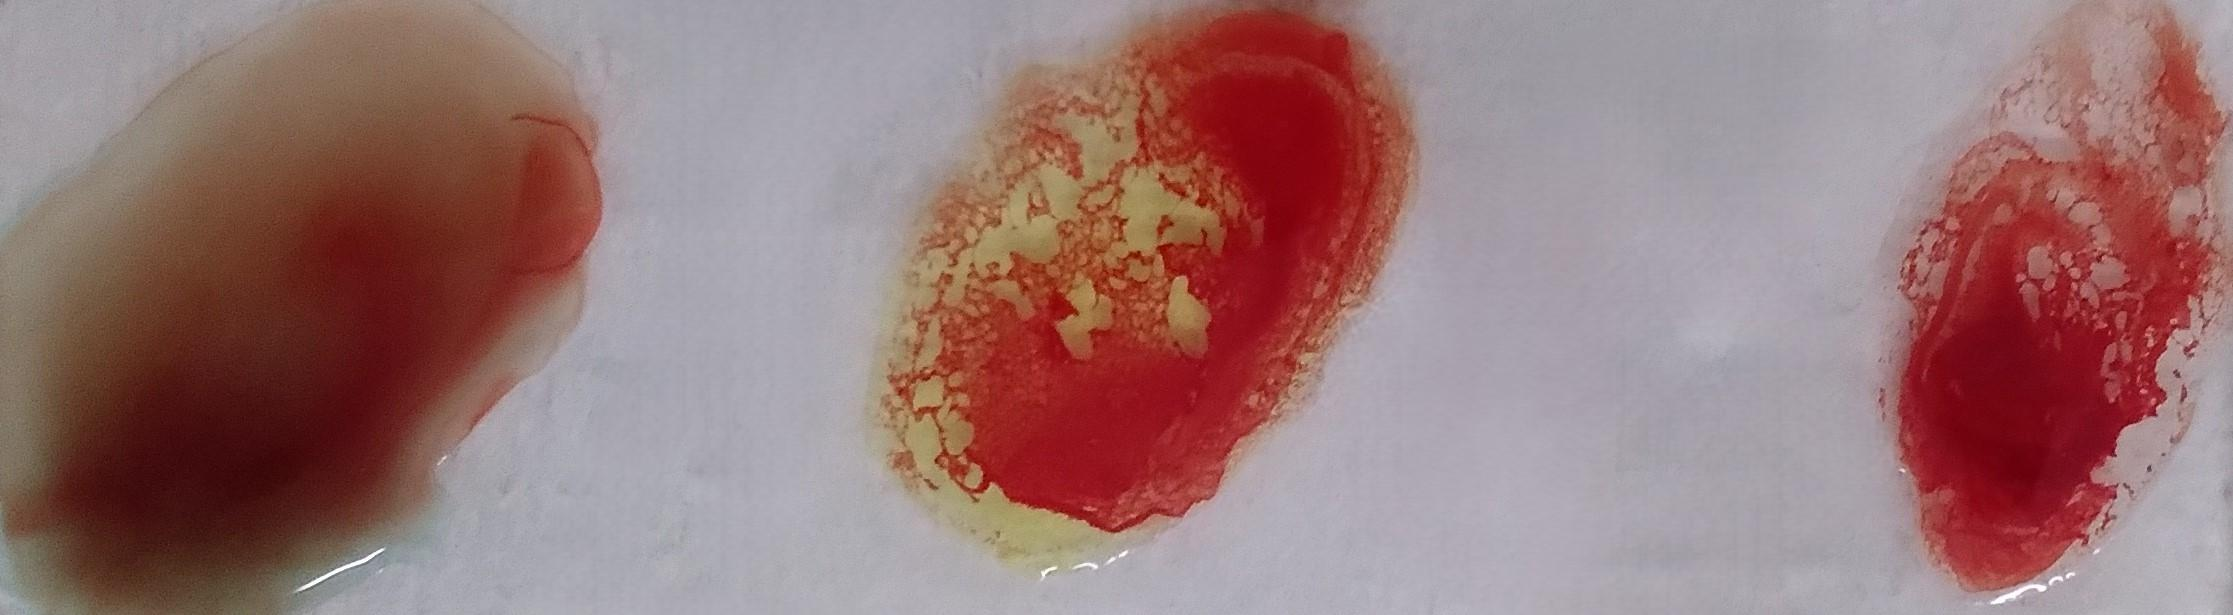B: (944, 33, 1377, 561)
D: (1913, 23, 2199, 615)
